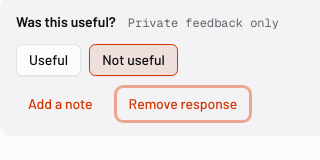
Test: InsightFeedback › returns focus to Useful after a successful response removal commits
Click the button "Remove response" at coordinates (183, 104), box [117,88,249,120]
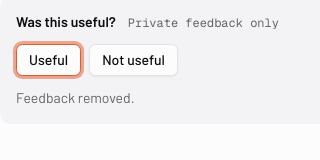
Now the text "Feedback removed." is shown, box [16,89,135,106]
Now the button "Remove response" is gone
